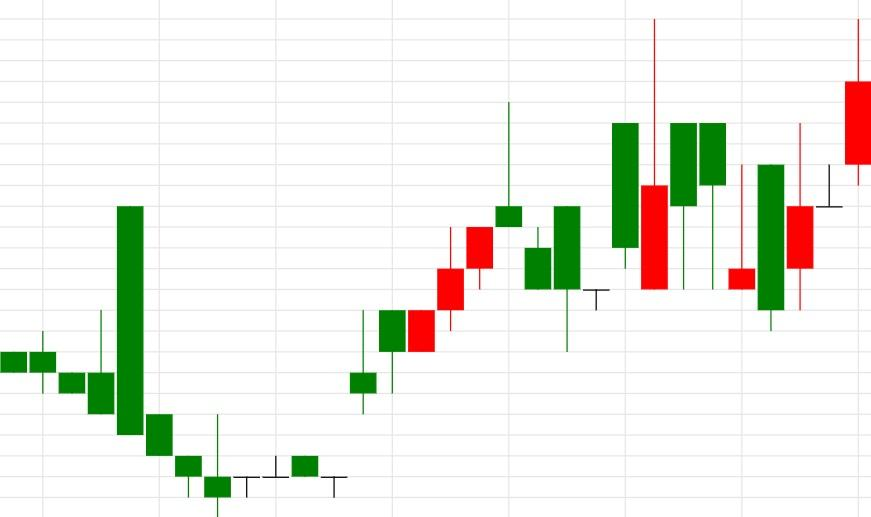shooting_star_fall: (203, 102, 523, 516)
